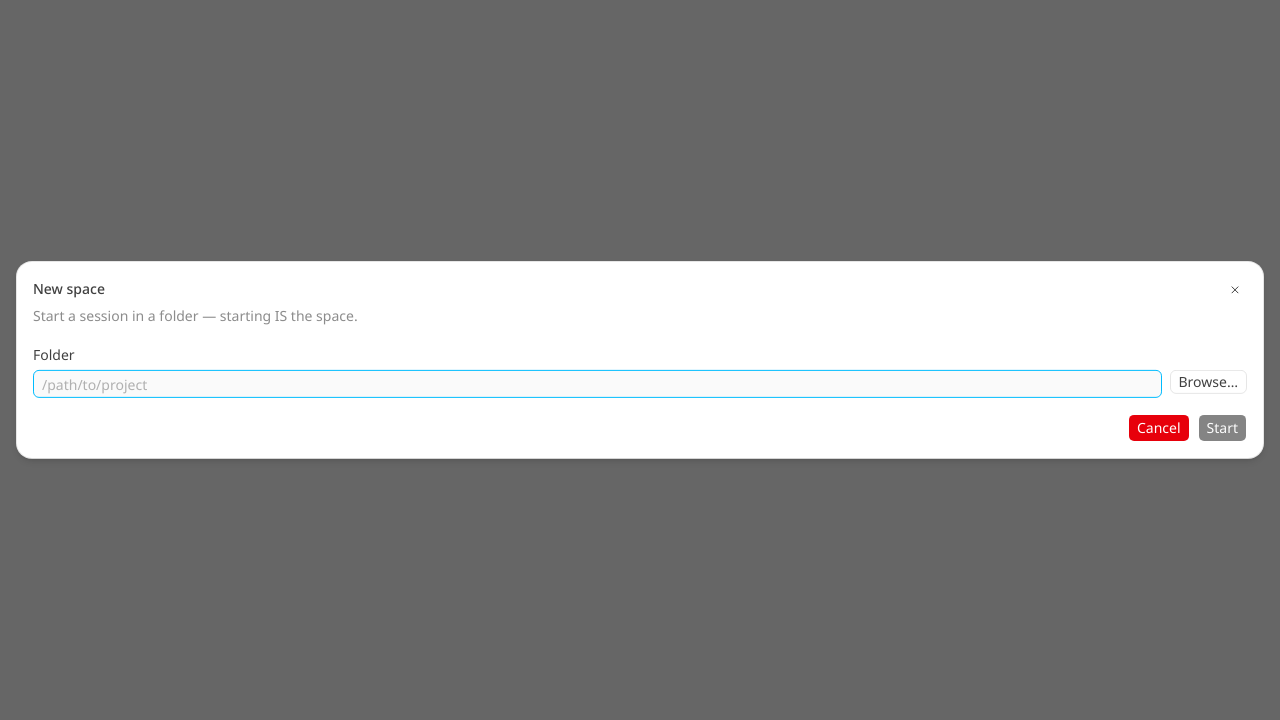
Test: NewSpaceDialog (create the Space + start a native session) › keeps the dialog open on a start error
Step 1. Type "/tmp/ws" into the field with placeholder "/path/to/project" → x=597, y=384, box [33,370,1162,398]
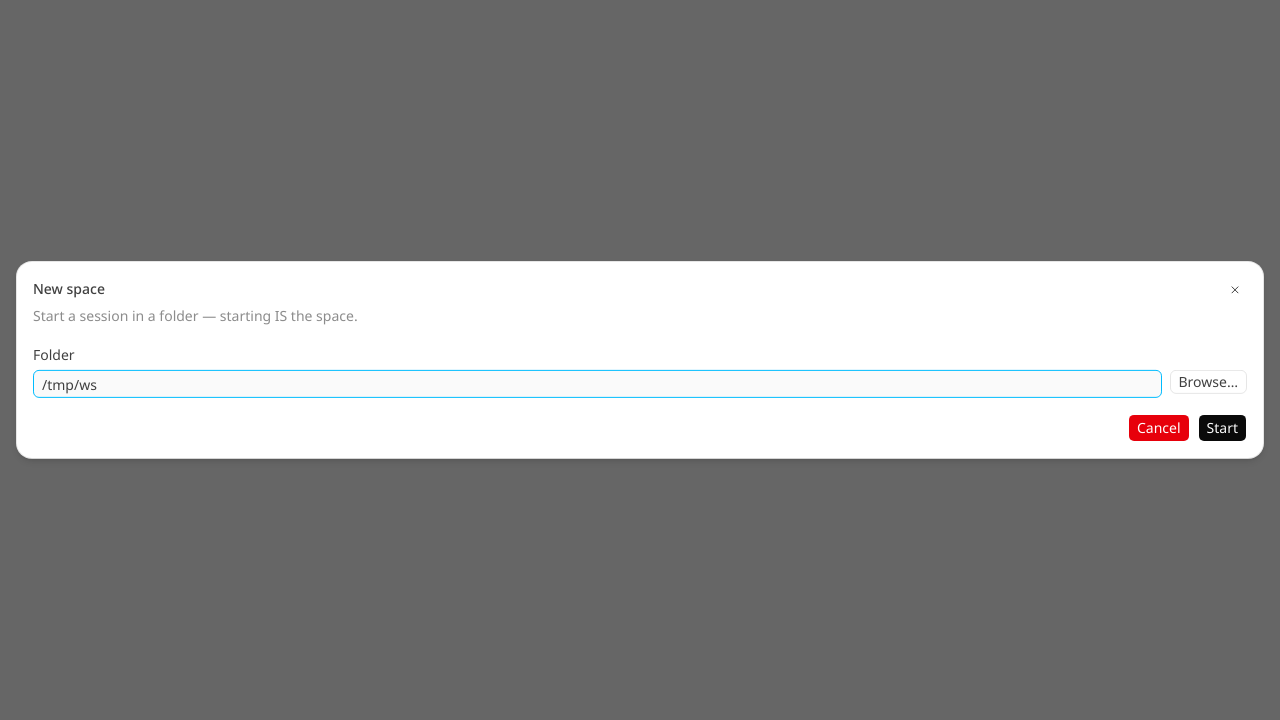
Step 2. Click the button "Start" → x=1222, y=428, box [1198,414,1247,442]
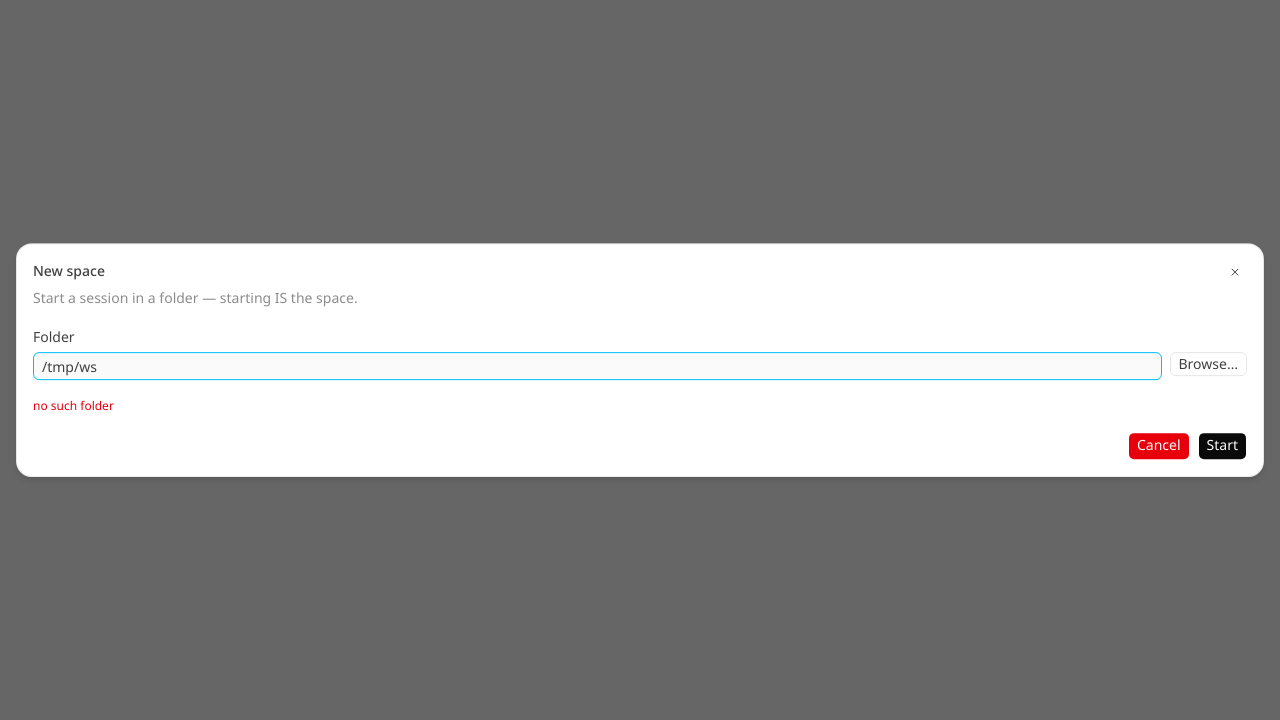
Check: the button "Cancel" is shown, box [1128,432,1190,460]
Check: the text "no such folder" is shown, box [33,397,114,414]
